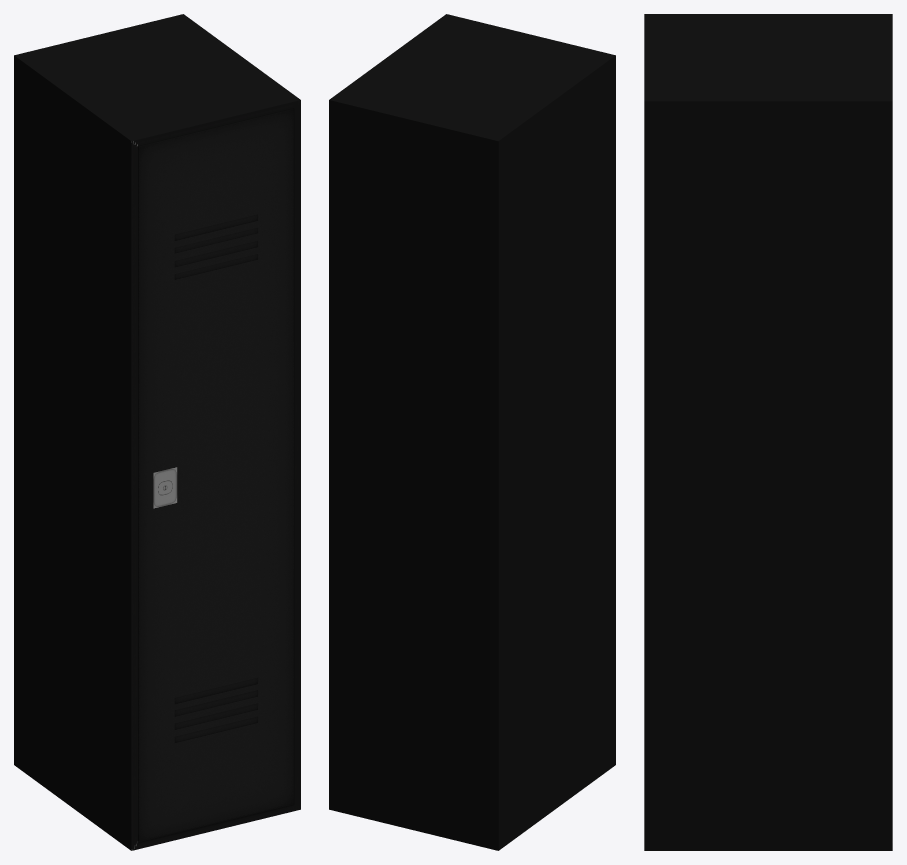
Rendered from locker-game-ready.obj.
3 renders of one model, left to right at view 1: azimuth 30°, elevation 25°; view 2: azimuth 150°, elevation 25°; view 3: azimuth 270°, elevation 25°, orthographic. The views are drawn at different scales.
Parts seen in each view (by area): view 1: Cube.003, Cube.004; view 2: Cube.003; view 3: Cube.003.
Part boxes in pixels (bbox=[...]): Cube.003: bbox=[14, 14, 300, 850]; Cube.004: bbox=[138, 109, 293, 841]; Cube.003: bbox=[329, 14, 615, 850]; Cube.003: bbox=[644, 14, 892, 850].
Bounding box in the file's own units: 0.5 × 2 × 0.6.
